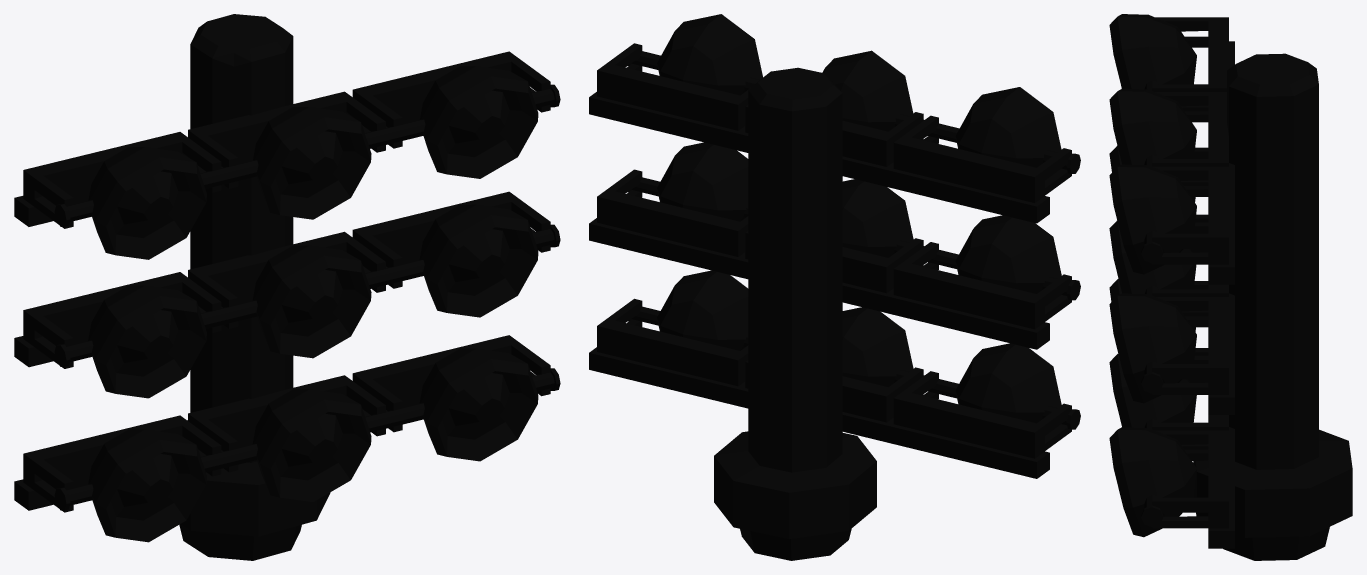
File: cyber_SM_Prop_Hover_Light_03.gltf
3 renders of one model, left to right at view 1: azimuth 30°, elevation 25°; view 2: azimuth 150°, elevation 25°; view 3: azimuth 270°, elevation 25°, orthographic. The views are drawn at different scales.
Visible parts, largest first — view 1: SM_Prop_Hover_Light_03; view 2: SM_Prop_Hover_Light_03; view 3: SM_Prop_Hover_Light_03.
Boxes of the visible parts, x1,y1,x2,y2 form: SM_Prop_Hover_Light_03: [14, 14, 560, 560]; SM_Prop_Hover_Light_03: [589, 14, 1080, 560]; SM_Prop_Hover_Light_03: [1109, 14, 1352, 560].
Bounding box in the file's own units: 1.33 × 1.29 × 0.604.
1 material, 1 textured.
